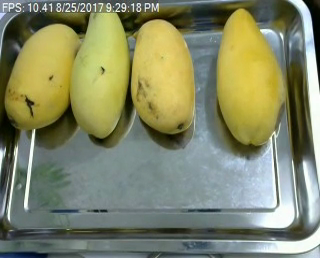Mango: (215, 7, 287, 148), (3, 23, 82, 132), (68, 1, 129, 139), (131, 19, 198, 135)
